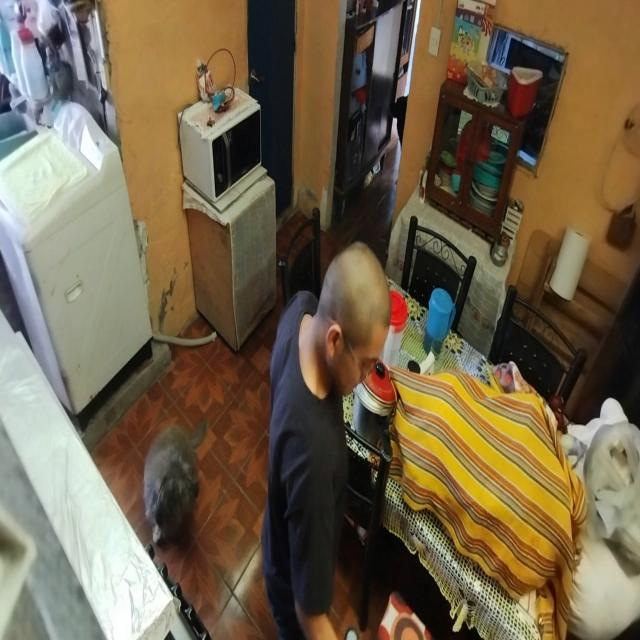adult: (257, 243, 396, 640)
